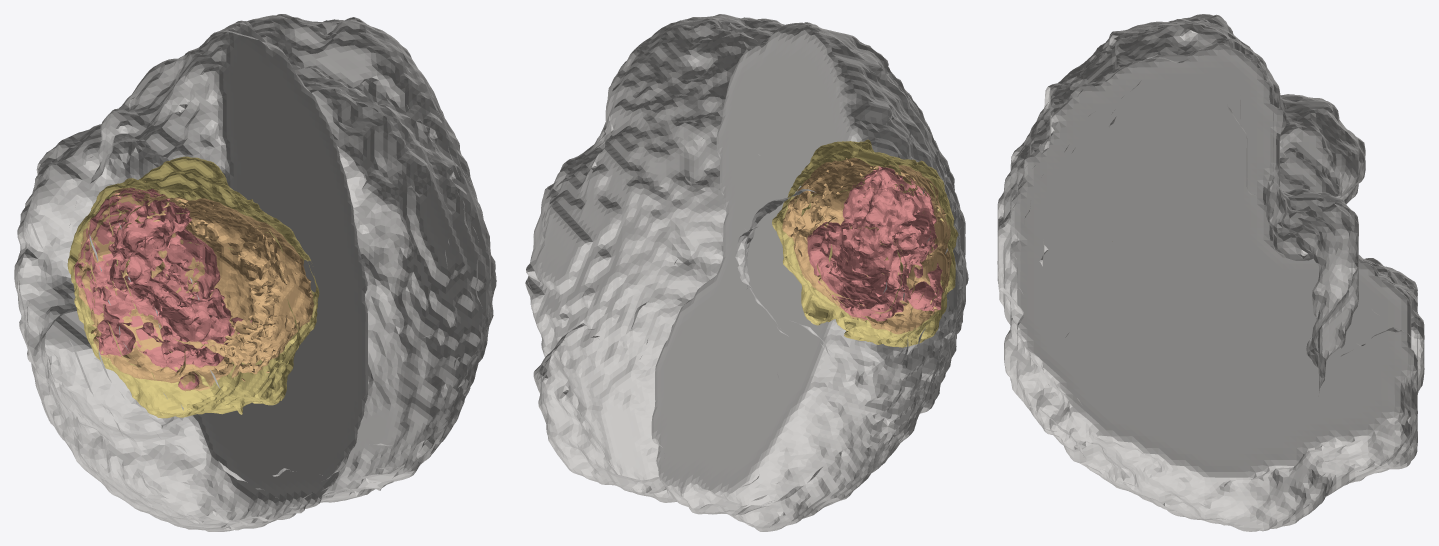
The picture shows the model from 3 angles, left to right: view 1: azimuth 30°, elevation 25°; view 2: azimuth 150°, elevation 25°; view 3: azimuth 270°, elevation 25°; orthographic projection. The views are drawn at different scales.
Parts seen in each view (by area): view 1: brain_left, brain_right, core, enhancing, edema; view 2: brain_left, brain_right, enhancing, core, edema; view 3: brain_right, brain_left.
Boxes of the visible parts, box(x1,y1,x2,y2) form: brain_left: box(14, 20, 367, 531); brain_right: box(247, 14, 496, 502); core: box(73, 181, 314, 391); enhancing: box(75, 188, 251, 390); edema: box(67, 156, 319, 418); brain_left: box(651, 22, 968, 531); brain_right: box(525, 14, 784, 502); enhancing: box(807, 166, 943, 321); core: box(782, 157, 951, 334); edema: box(772, 139, 958, 347); brain_right: box(997, 43, 1417, 531); brain_left: box(997, 14, 1424, 394).
Size of the model in its own units: 128 by 156 by 130.
